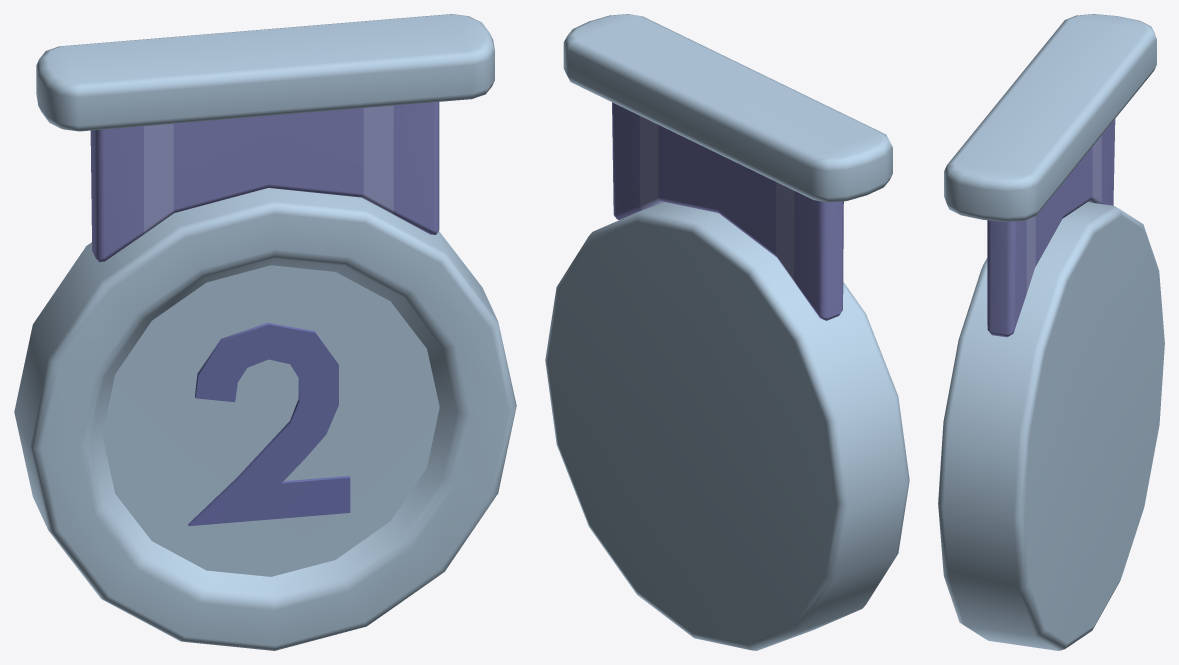
3 renders of one model, left to right at view 1: azimuth 30°, elevation 25°; view 2: azimuth 150°, elevation 25°; view 3: azimuth 270°, elevation 25°, orthographic. The views are drawn at different scales.
Parts seen in each view (by area): view 1: model_1.092; view 2: model_1.092; view 3: model_1.092.
Part boxes in pixels (x1,y1,x2,y2): model_1.092: (14, 14, 516, 650); model_1.092: (545, 14, 909, 650); model_1.092: (938, 14, 1164, 650).
Size of the model in its own units: 3.39 by 4.42 by 1.71.
